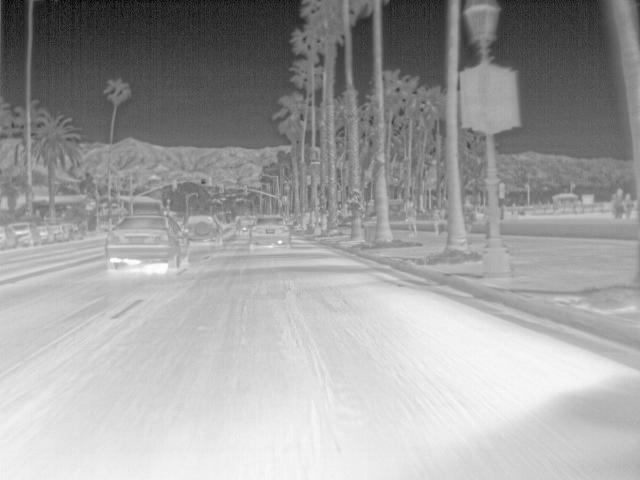car: (106, 210, 192, 273), (248, 214, 293, 248), (182, 214, 225, 244), (9, 220, 39, 246), (237, 214, 260, 230), (34, 224, 51, 244)
person: (400, 198, 418, 234), (610, 186, 626, 220), (623, 190, 636, 218)
